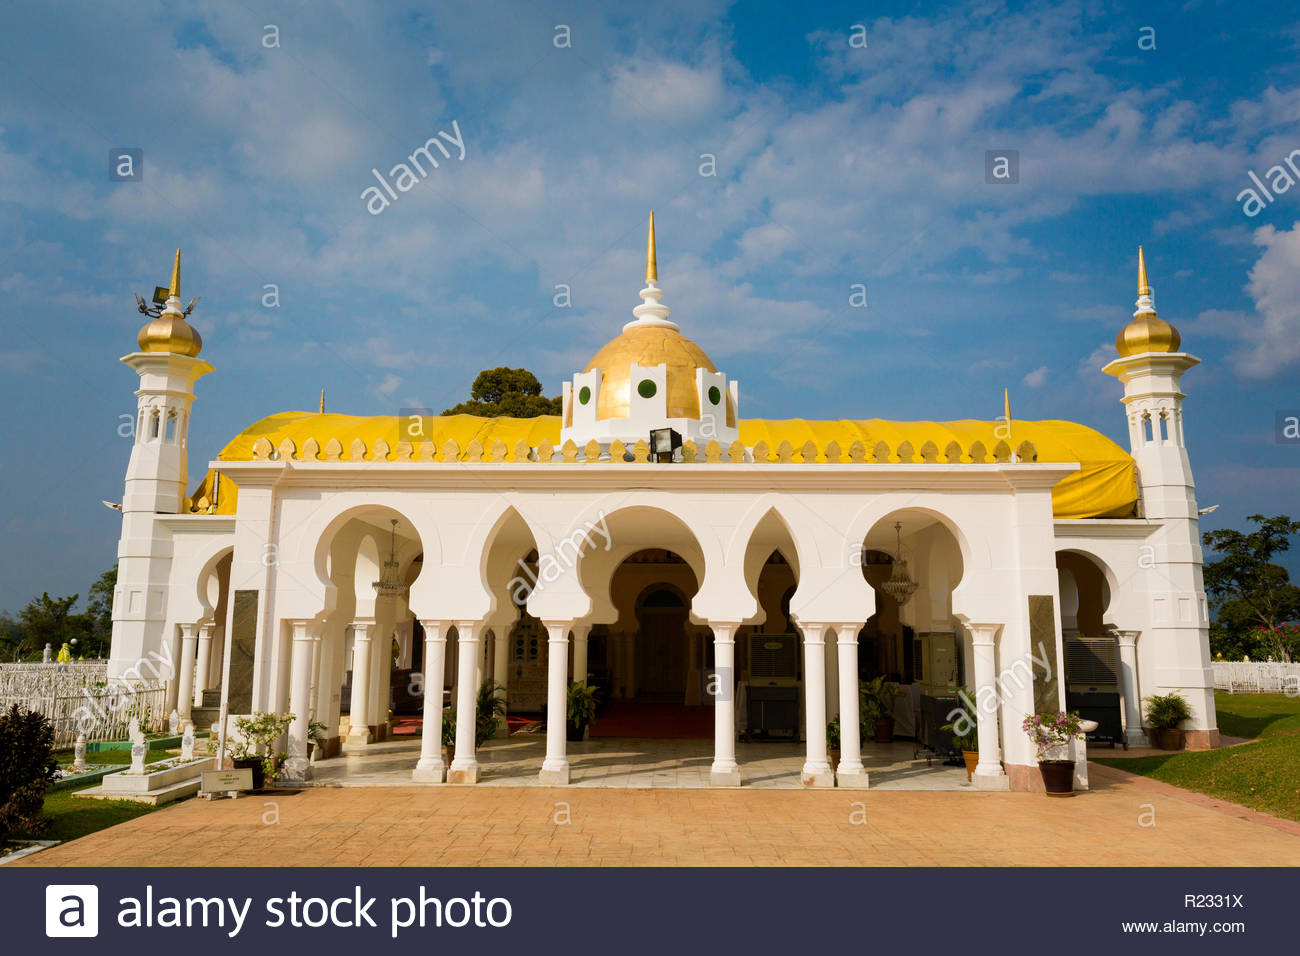Mosque: (75, 230, 1201, 771)
